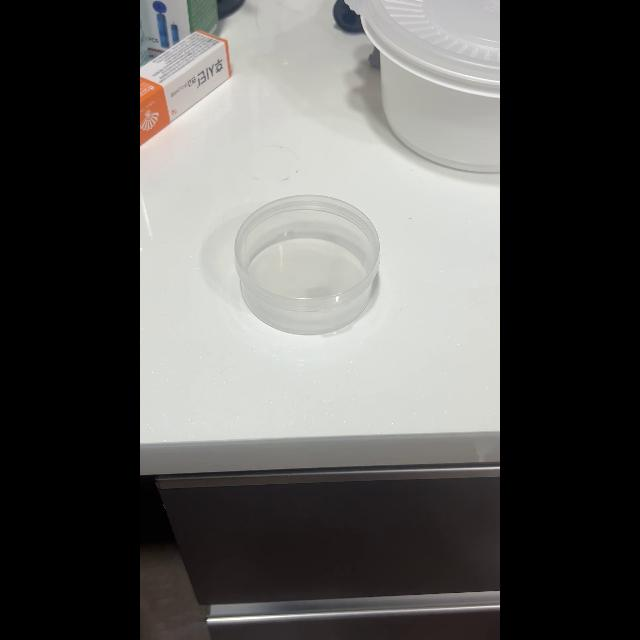clean: (236, 186, 384, 326)
